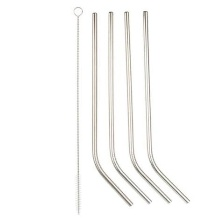drinking_straw: (139, 7, 194, 206)
